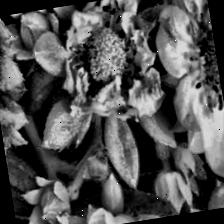Blossom Blight: (61, 0, 152, 112), (179, 6, 224, 116)
